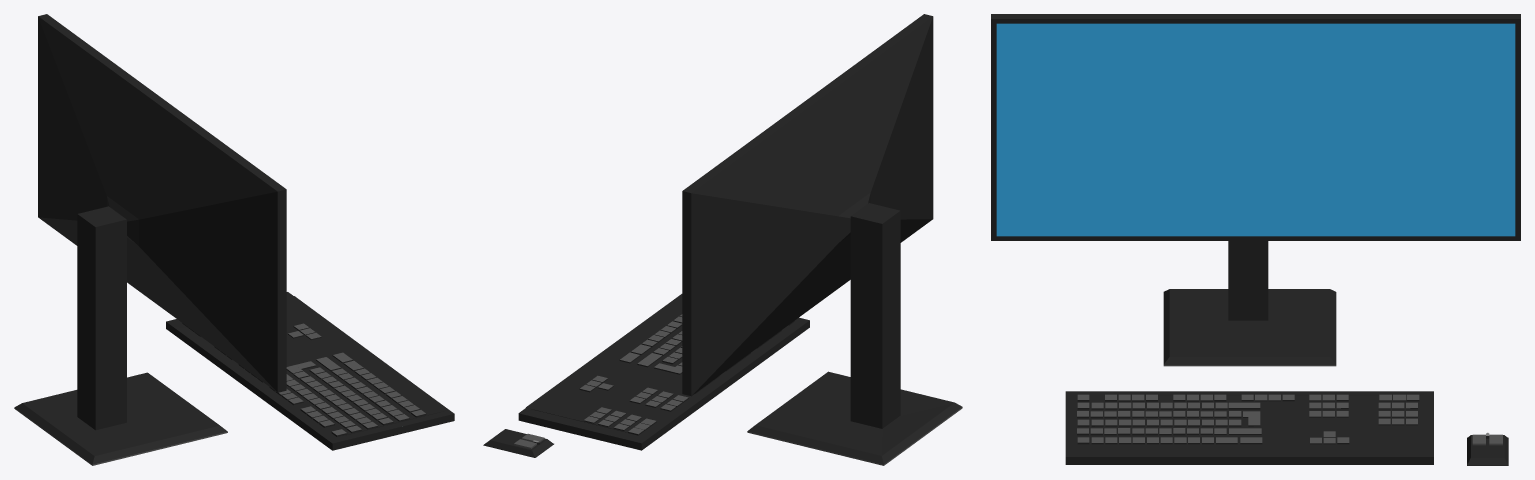
The model's file is room.fbx.
The picture shows the model from 3 angles, left to right: view 1: azimuth 30°, elevation 25°; view 2: azimuth 150°, elevation 25°; view 3: azimuth 270°, elevation 25°; orthographic projection. The views are drawn at different scales.
Parts seen in each view (by area): view 1: screen, keyboard; view 2: screen, keyboard, mouse; view 3: screen, keyboard, mouse.
Part boxes in pixels (left/top/right/bottom): screen: left=14, top=14, right=286, bottom=465; keyboard: left=166, top=292, right=454, bottom=450; screen: left=682, top=14, right=962, bottom=465; keyboard: left=518, top=294, right=809, bottom=450; mouse: left=483, top=429, right=553, bottom=457; screen: left=991, top=14, right=1520, bottom=366; keyboard: left=1065, top=391, right=1433, bottom=464; mouse: left=1467, top=432, right=1508, bottom=465.
Bounding box in the file's own units: 117 × 107 × 152.
Materials: 1 (1 with a texture image).
